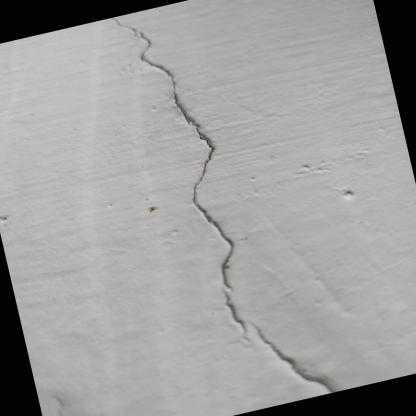crack: (109, 16, 236, 288), (252, 322, 339, 393), (221, 288, 252, 341)
